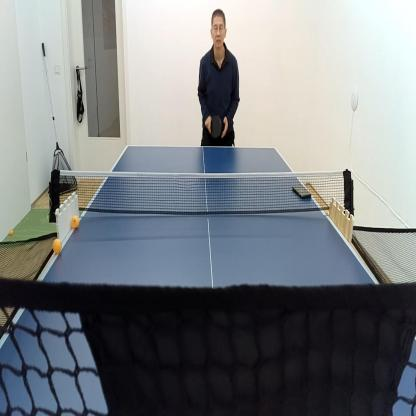Ball: (53, 237, 62, 255), (72, 215, 78, 228), (9, 229, 13, 235)
